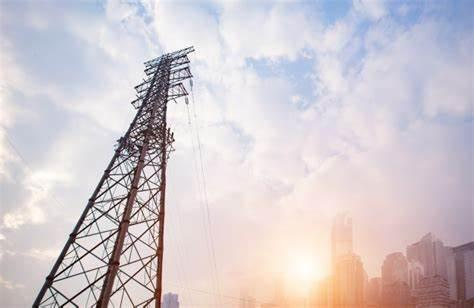power_tower: (33, 43, 198, 308)
